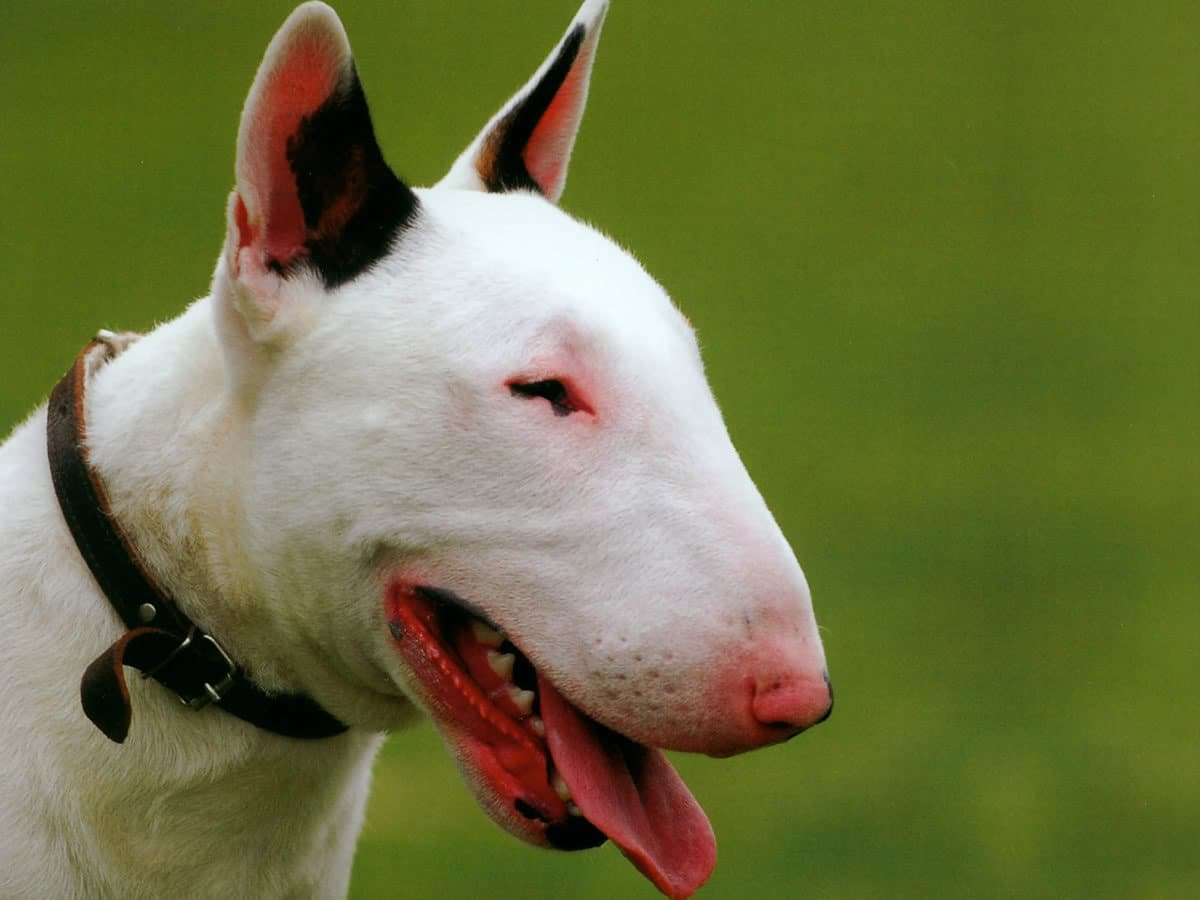bull_terrier: (0, 0, 835, 899)
